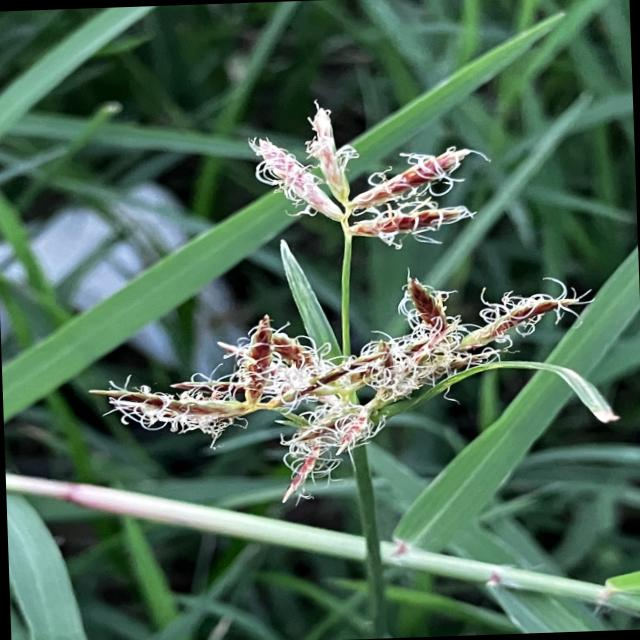cyperus: (70, 79, 611, 520)
